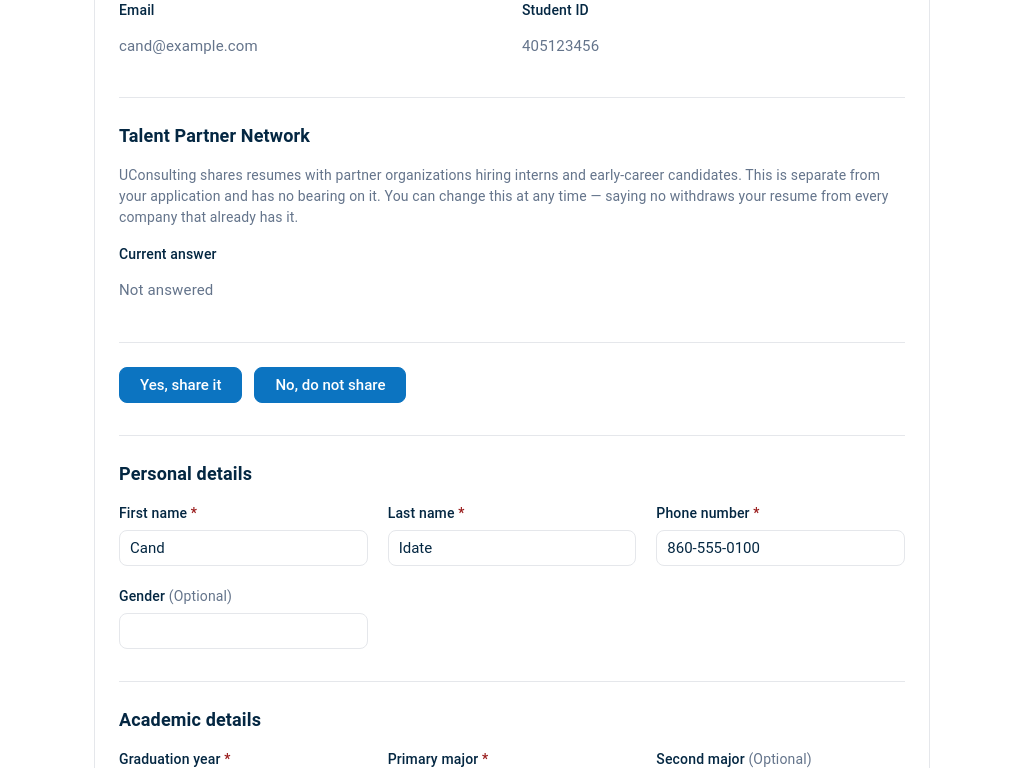
it: an applicant changing their Talent Partner Network answer › sends the change and says what turning it off does
(page scrolled)
Click the button "No, do not share" at coordinates (330, 384), box [254, 366, 406, 402]
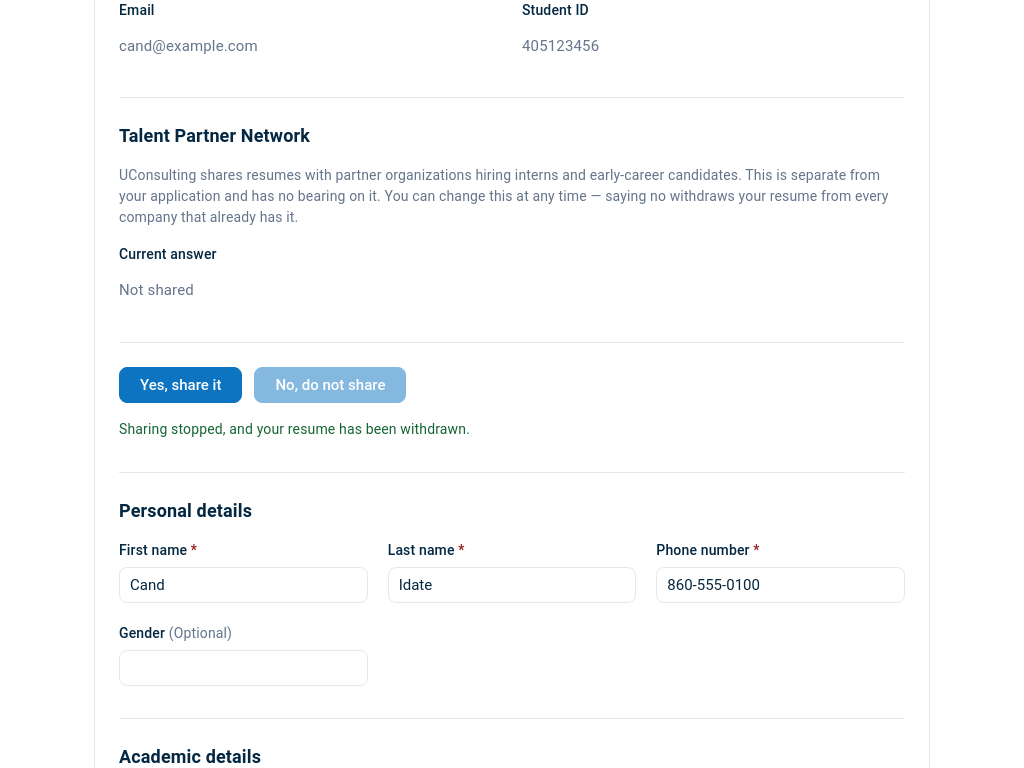
Result: the text "Sharing stopped, and your resume has been withdrawn." is shown at [119, 420, 470, 436]
